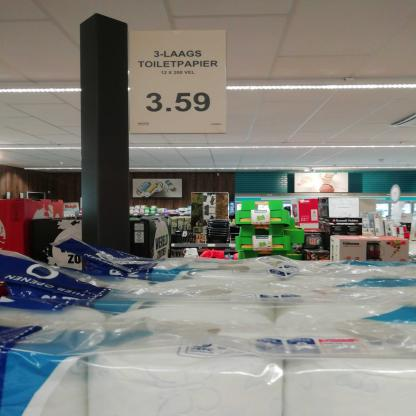prtg: (130, 31, 228, 135)
